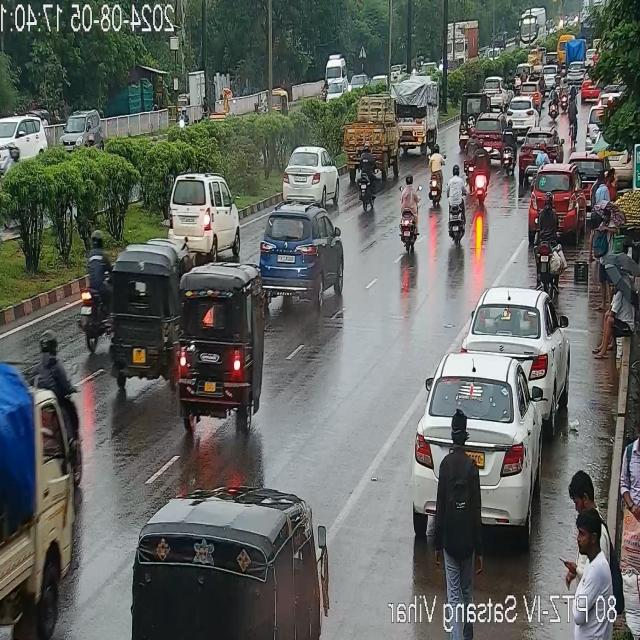2-wheelers: (75, 226, 118, 352), (28, 338, 84, 416), (533, 192, 563, 286), (347, 143, 379, 214), (396, 174, 419, 260), (445, 166, 465, 244), (426, 140, 444, 210), (474, 140, 490, 212), (466, 126, 481, 192), (502, 130, 516, 177), (568, 98, 578, 147), (176, 102, 192, 130), (548, 84, 560, 120)
auto: (115, 474, 328, 640), (178, 260, 260, 422), (104, 241, 188, 387), (396, 76, 436, 152), (458, 94, 486, 135), (269, 84, 289, 114)
bus: (518, 8, 548, 46), (325, 54, 347, 84)
car: (414, 356, 546, 500), (468, 285, 564, 394), (254, 202, 346, 314), (148, 170, 232, 259), (532, 160, 586, 231), (276, 148, 340, 204), (0, 111, 48, 168), (514, 126, 558, 184), (53, 106, 107, 150), (472, 112, 506, 158), (568, 153, 608, 190), (506, 98, 537, 130), (478, 78, 506, 108), (323, 82, 349, 108), (518, 80, 542, 104), (582, 73, 602, 100), (349, 71, 369, 95), (540, 66, 558, 86), (515, 64, 532, 80)
pedestrian: (434, 410, 490, 640), (561, 470, 611, 608), (598, 270, 630, 360), (592, 168, 608, 220)
truck: (0, 340, 89, 640), (342, 94, 397, 174), (444, 18, 480, 70), (567, 38, 585, 66)
